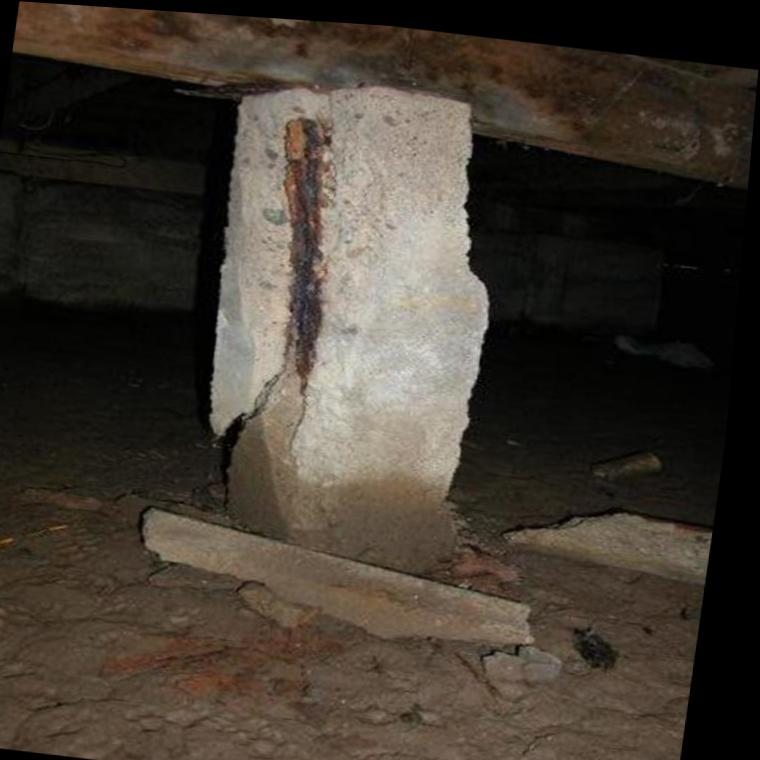damage: (217, 81, 495, 567)
